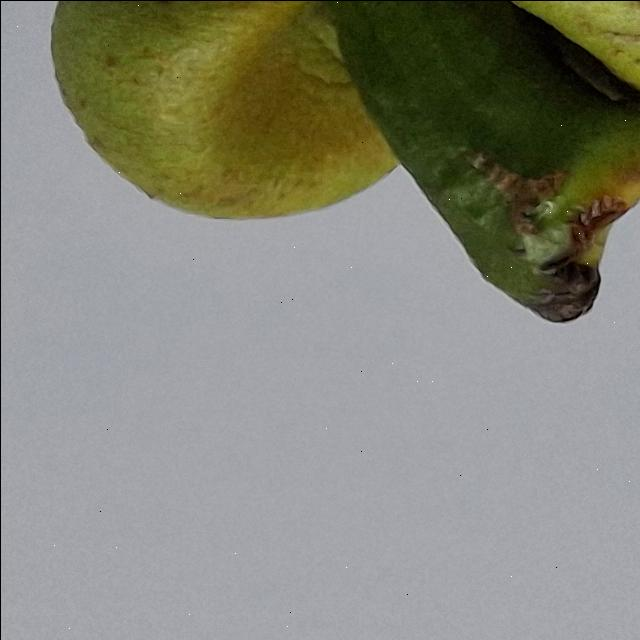mangosteen: (0, 0, 640, 365)
